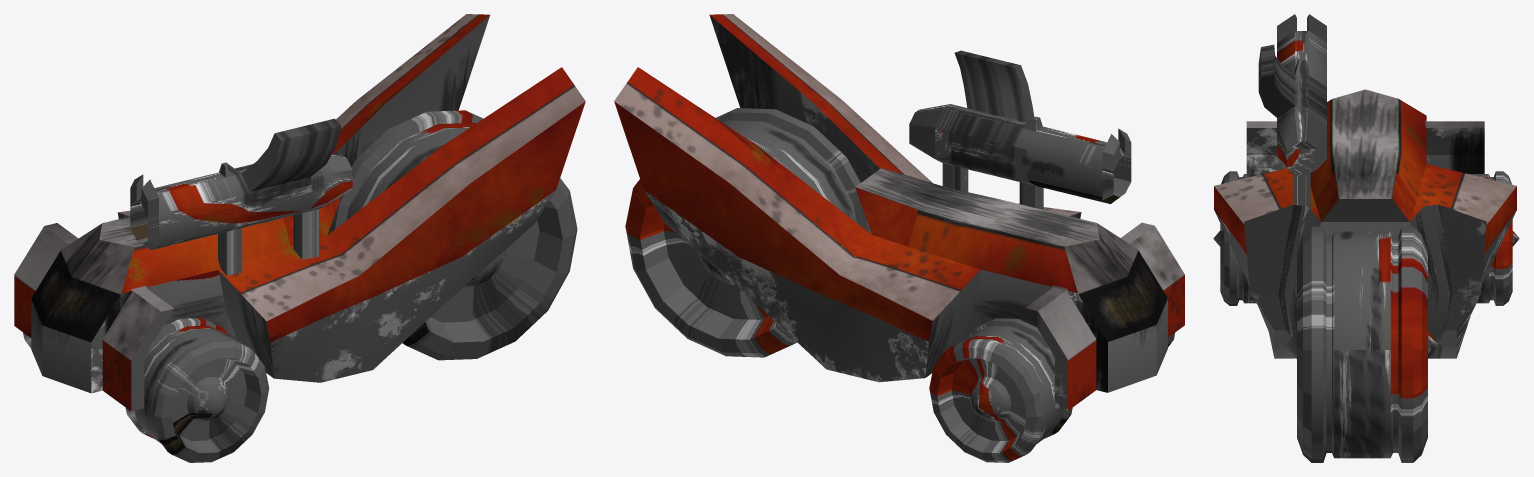
File: ScrapCycleFBX.fbx
3 views of the same model, side by side, from view 1: azimuth 30°, elevation 25°; view 2: azimuth 150°, elevation 25°; view 3: azimuth 270°, elevation 25° (orthographic).
Visible parts, largest first — view 1: polySurface150, polySurface151, polySurface149, polySurface153; view 2: polySurface150, polySurface151, polySurface149, polySurface152; view 3: polySurface150, polySurface151, polySurface149, polySurface152, polySurface153.
Part boxes in pixels (x1,y1,x2,y2): polySurface150: [14, 14, 585, 411]; polySurface151: [327, 110, 577, 360]; polySurface149: [130, 118, 352, 275]; polySurface153: [125, 318, 269, 462]; polySurface150: [614, 14, 1184, 410]; polySurface151: [625, 108, 871, 357]; polySurface149: [909, 50, 1131, 209]; polySurface152: [929, 318, 1072, 462]; polySurface150: [1214, 89, 1516, 358]; polySurface151: [1286, 226, 1438, 462]; polySurface149: [1258, 14, 1326, 209]; polySurface152: [1469, 171, 1519, 305]; polySurface153: [1213, 171, 1261, 305].
Size of the model in its own units: 16.79 by 9.24 by 8.62.
